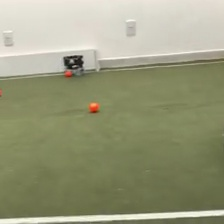ball: (88, 100, 99, 113), (64, 69, 72, 78)
goal: (1, 47, 100, 78)
robot: (62, 54, 85, 77)
